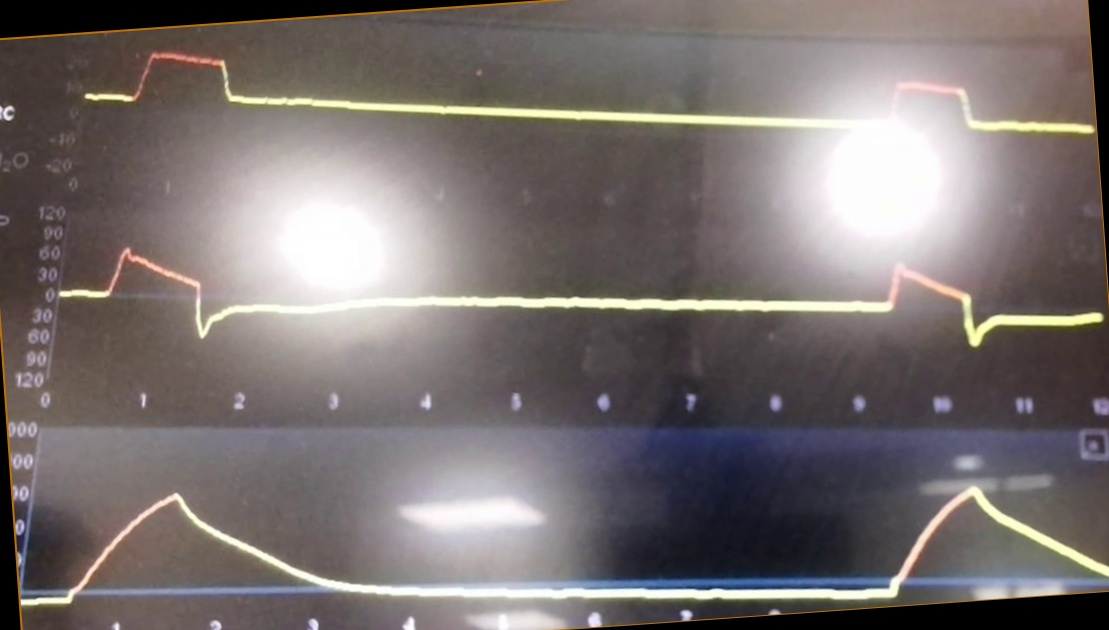Normal Flow: (62, 214, 1103, 370)
Normal Volume: (31, 469, 1109, 602)
